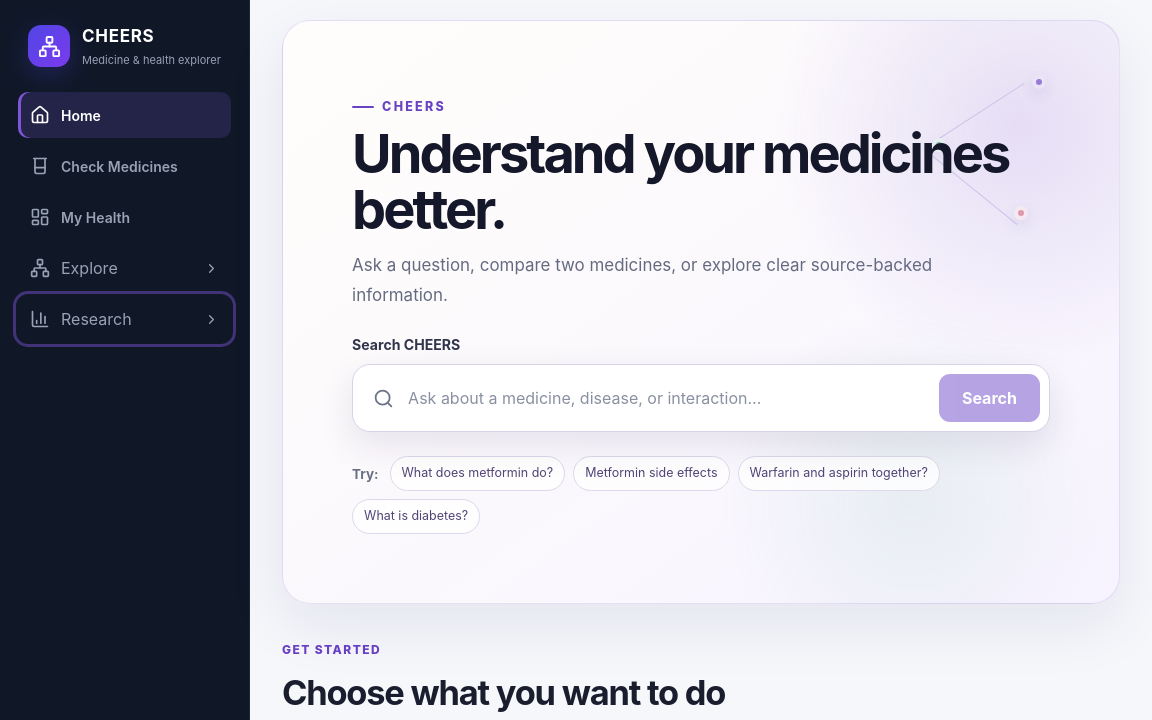
Test: CHEERS application shell › preserves keyboard, Escape and outside-click behavior for Research
The image size is (1152, 720).
Press Enter
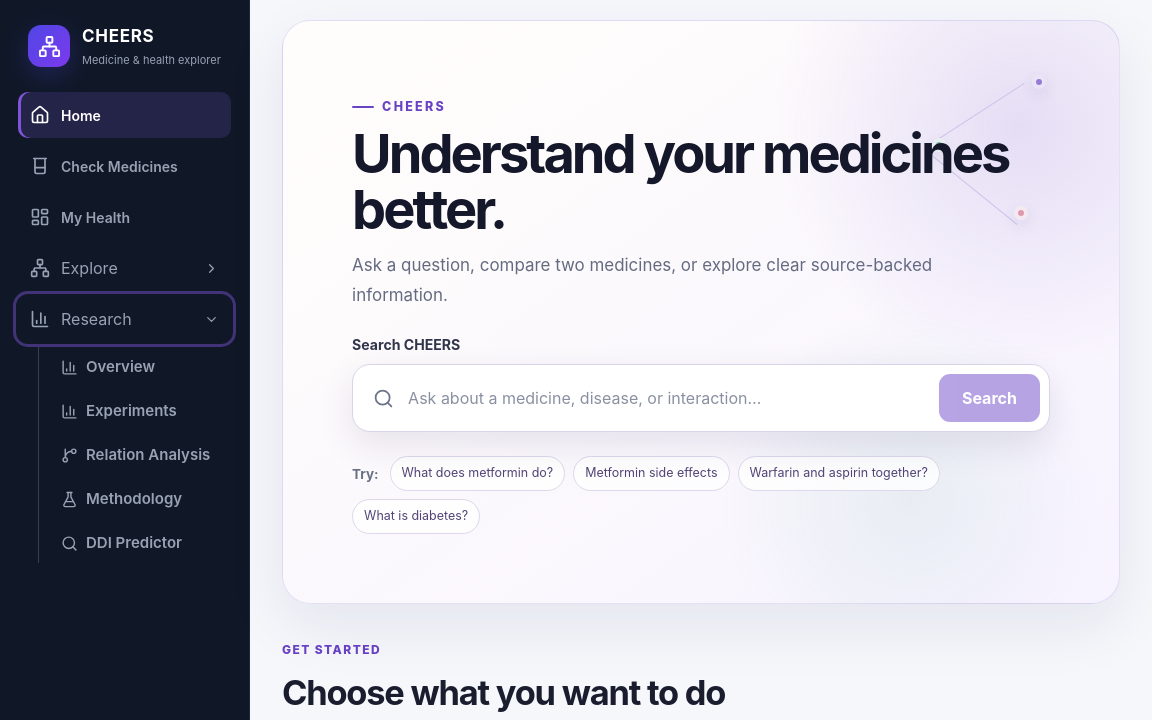
Now the button "Research" is expanded, box [18,296,231,342]
Press Tab
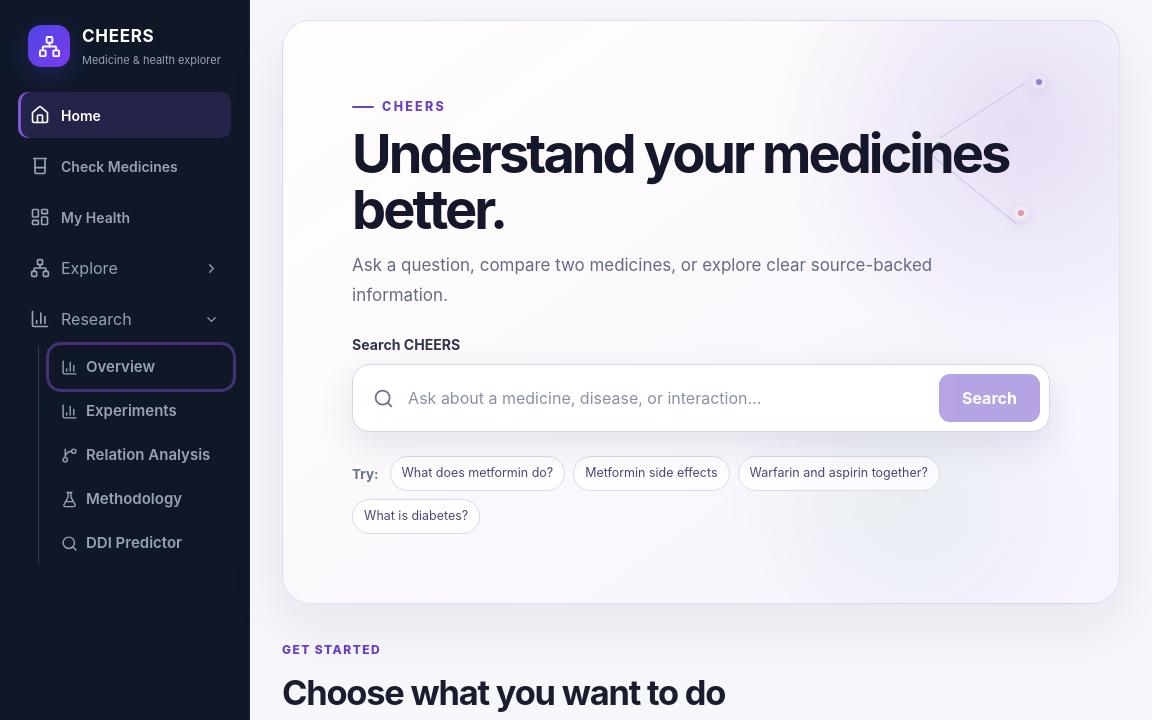
Press Escape
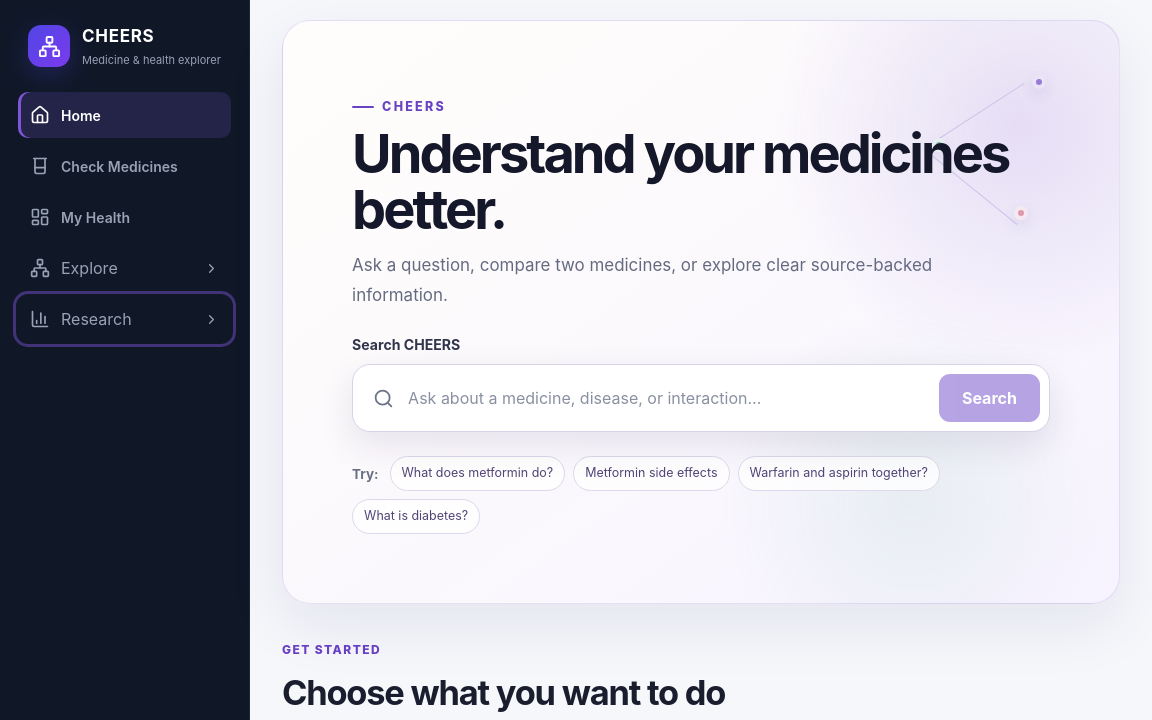
Now the button "Research" is collapsed, box [18,296,231,342]
Type keys " "
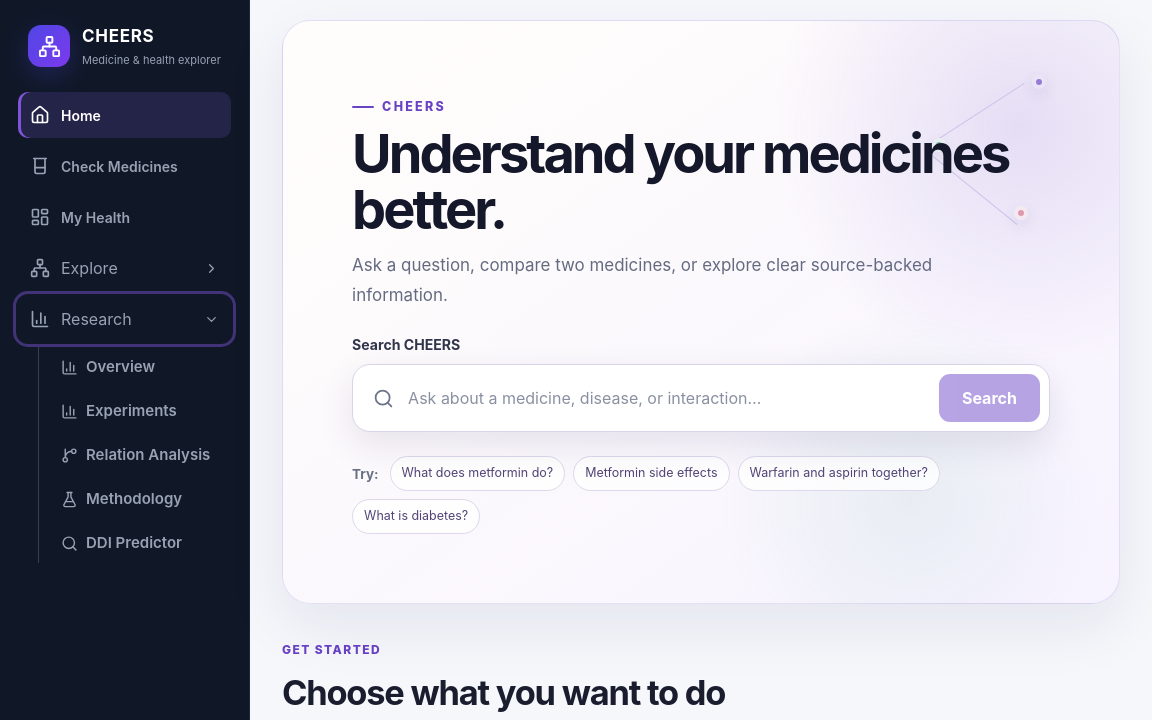
Now the button "Research" is expanded, box [18,296,231,342]
Click the heading "Understand your medicines better.": (697, 182) [352,126,1042,237]
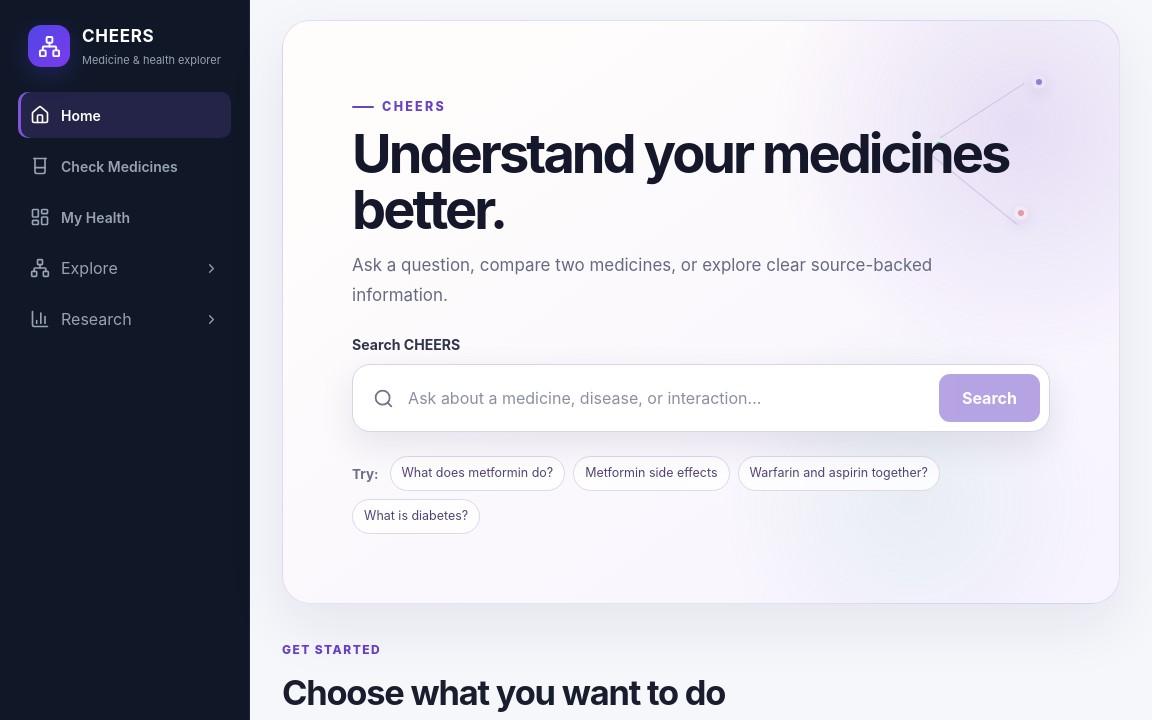
Now the button "Research" is collapsed, box [18,296,231,342]
